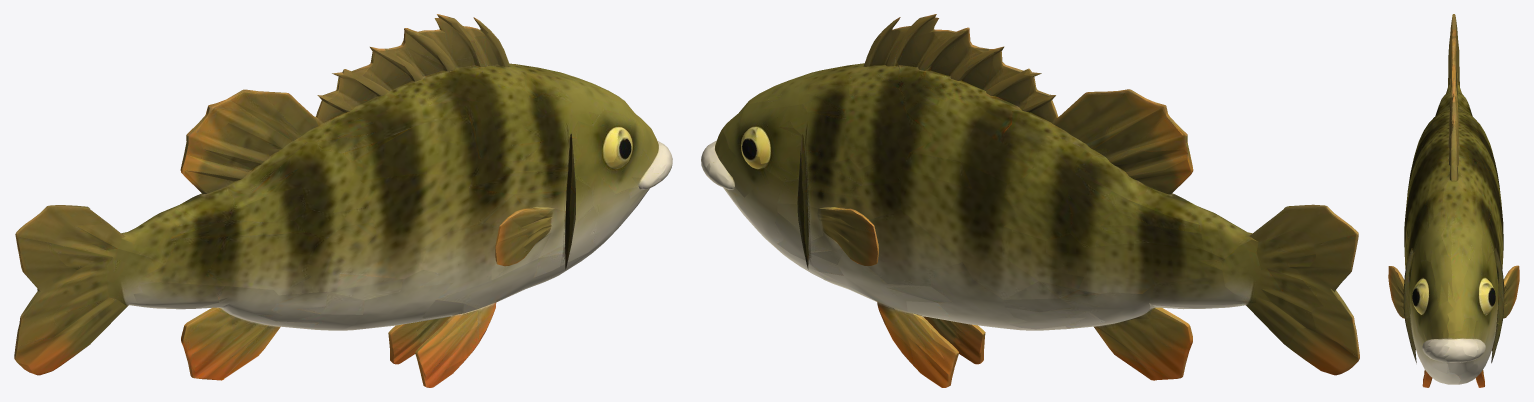
File: yellow_perch.glb
3 views of the same model, side by side, from view 1: azimuth 30°, elevation 25°; view 2: azimuth 150°, elevation 25°; view 3: azimuth 270°, elevation 25° (orthographic). The views are drawn at different scales.
Visible parts, largest first — view 1: fish; view 2: fish; view 3: fish.
Boxes of the visible parts, bbox=[...] form: fish: bbox=[14, 14, 672, 387]; fish: bbox=[701, 14, 1359, 387]; fish: bbox=[1388, 14, 1519, 387].
Size of the model in its own units: 1 by 0.5202 by 0.2038.
Materials: 1 (1 with a texture image).
